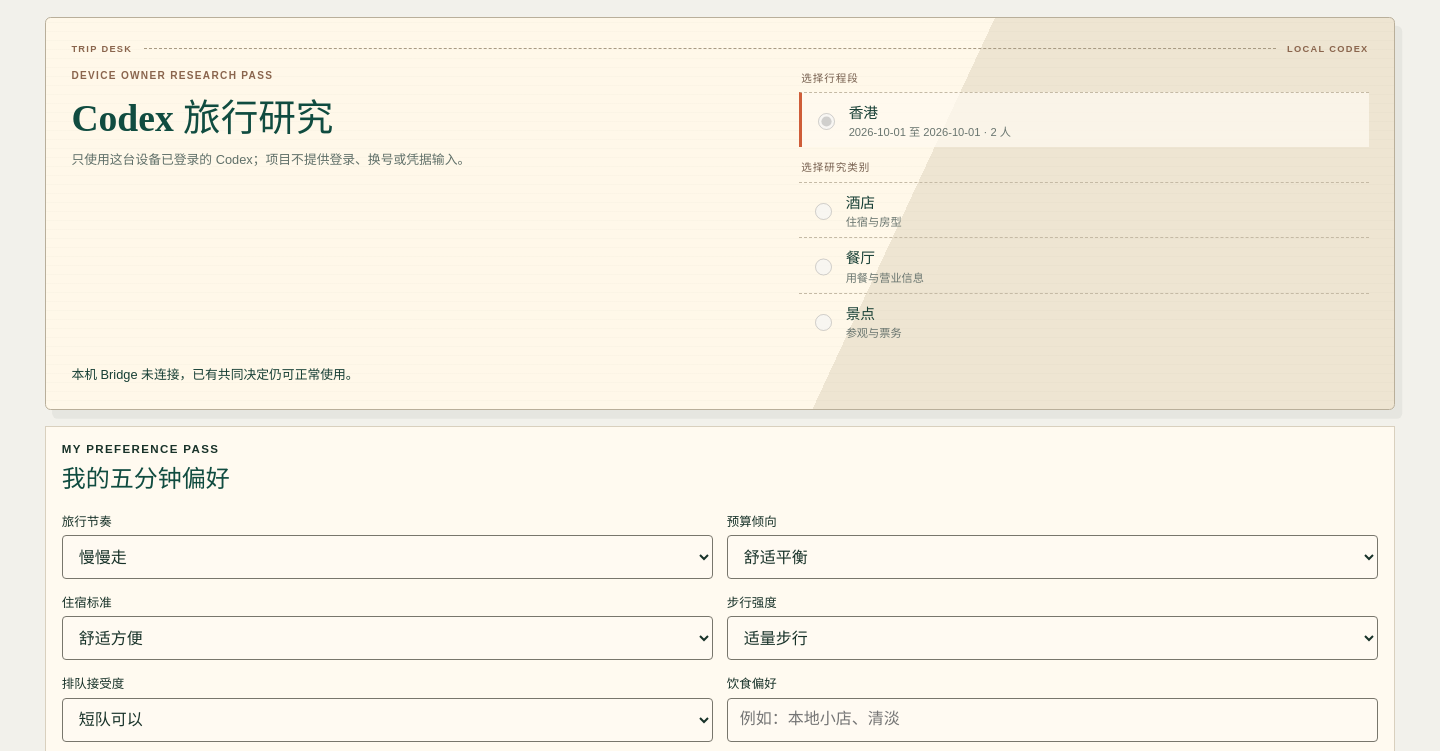
Scenario: uses the latest remote profile when that conflict resolution is selected
This screenshot has width=1440, height=751.
Type "本地小店" into the field labelled "饮食偏好".
click(1052, 720); type("本地小店")  # box [727, 698, 1378, 742]
(page scrolled)
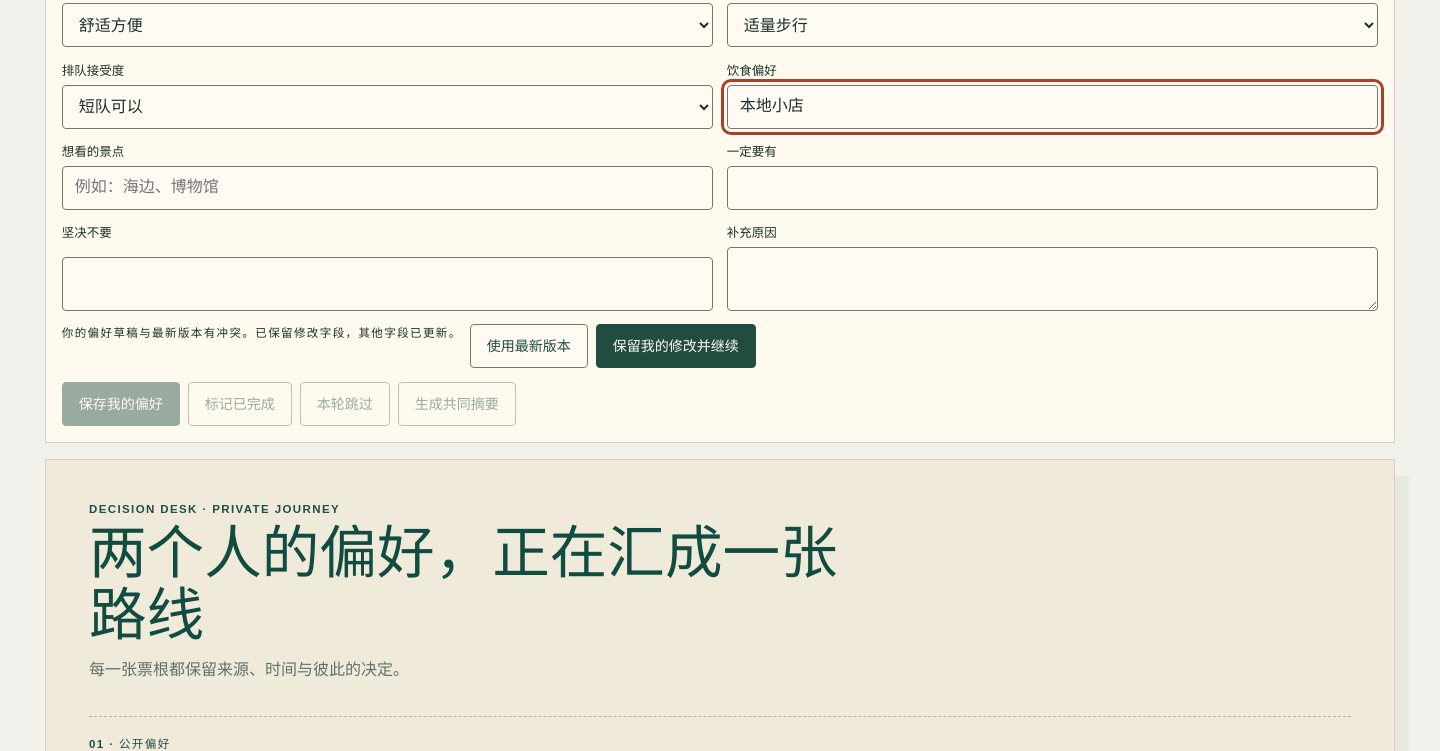
Click the button "使用最新版本".
click(529, 346)  # box [470, 324, 588, 368]
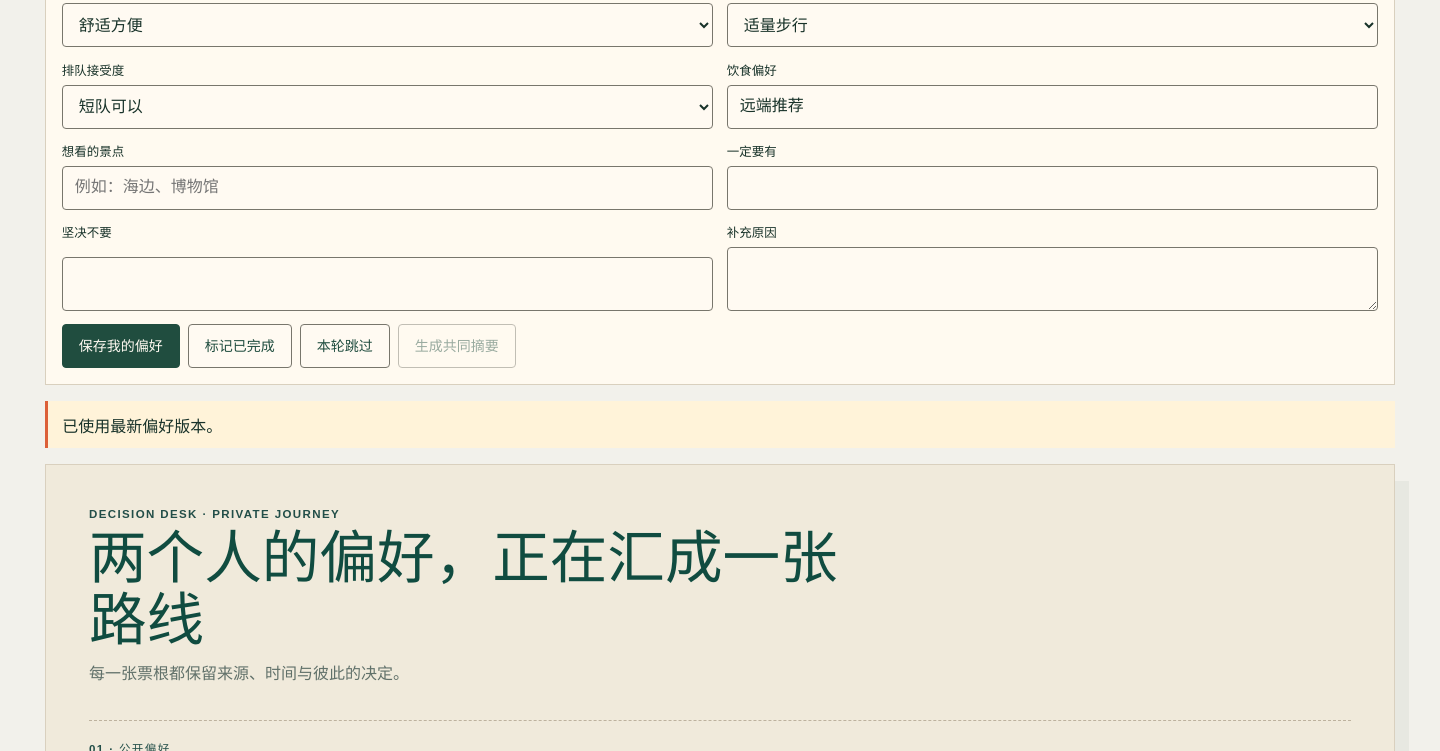
Expected: the field labelled "饮食偏好" holds "远端推荐", [727, 84, 1378, 128]
Expected: the text "偏好草稿与最新版本有冲突" is gone
Expected: the button "保存我的偏好" is enabled, [62, 324, 180, 368]
